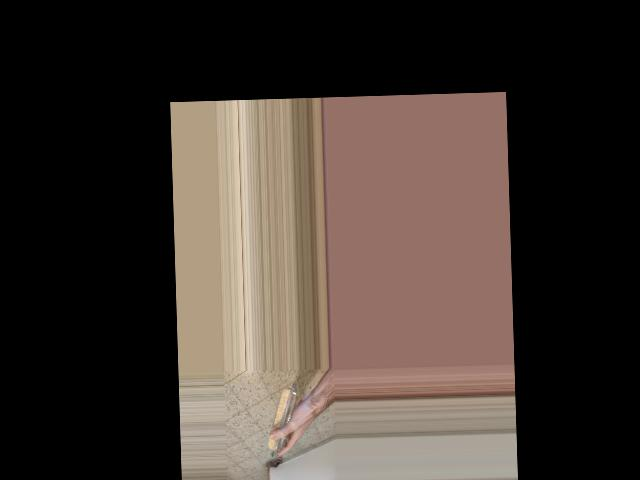cheese: (258, 393, 316, 460)
